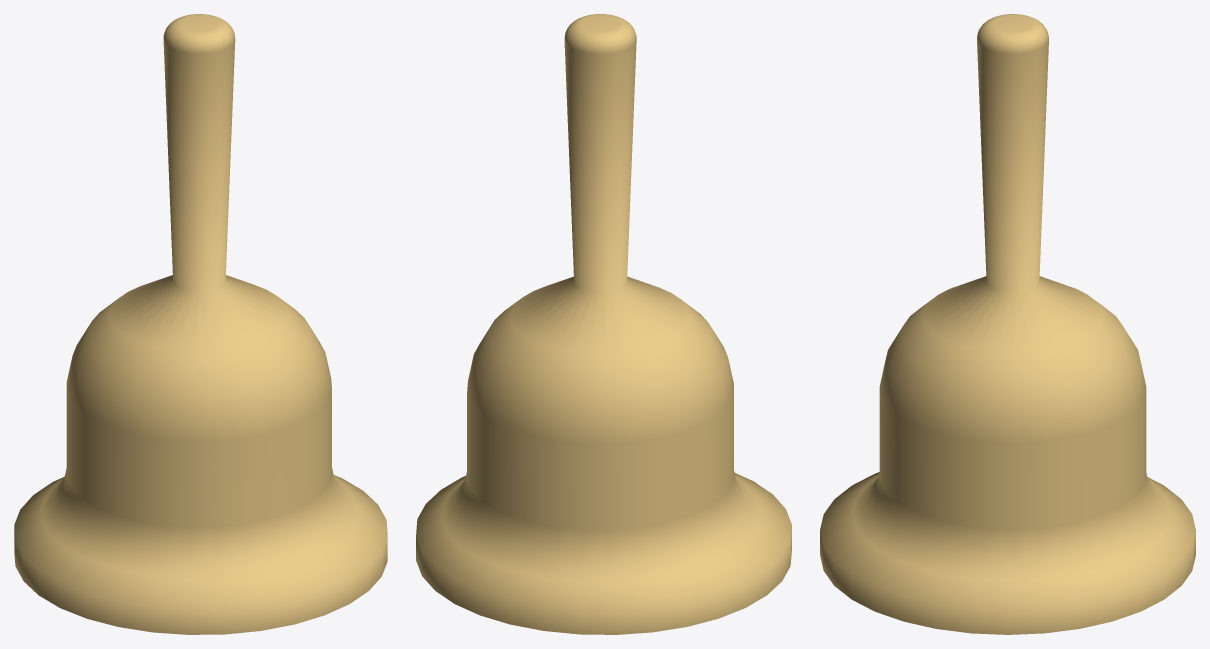
File: Bell.fbx
3 views of the same model, side by side, from view 1: azimuth 30°, elevation 25°; view 2: azimuth 150°, elevation 25°; view 3: azimuth 270°, elevation 25° (orthographic).
Parts seen in each view (by area): view 1: Bell; view 2: Bell; view 3: Bell.
Boxes of the visible parts, x1,y1,x2,y2 form: Bell: (14, 14, 387, 634); Bell: (416, 14, 791, 634); Bell: (820, 14, 1195, 634).
Size of the model in its own units: 34.19 by 53.44 by 34.19.
